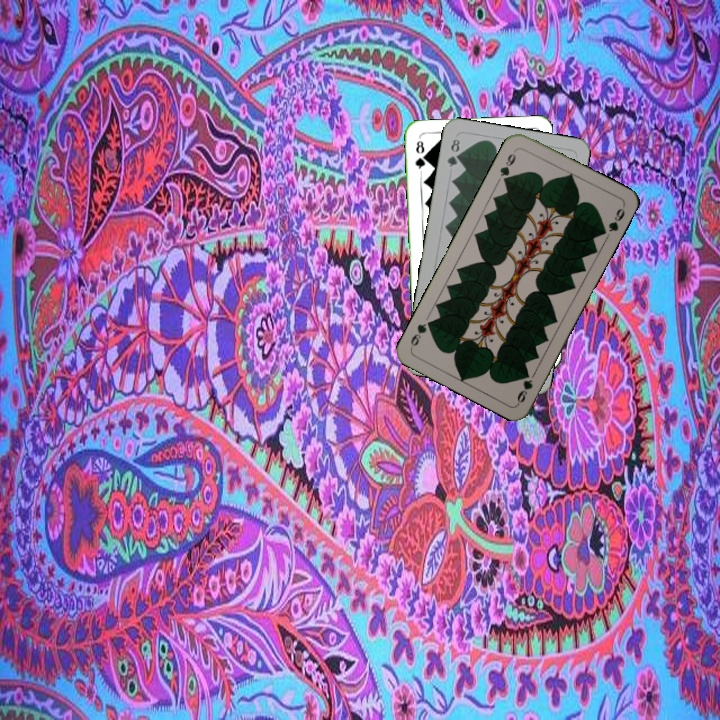G8: (443, 135, 462, 170), (411, 136, 428, 175)
G9: (513, 368, 535, 407), (496, 149, 518, 186)
